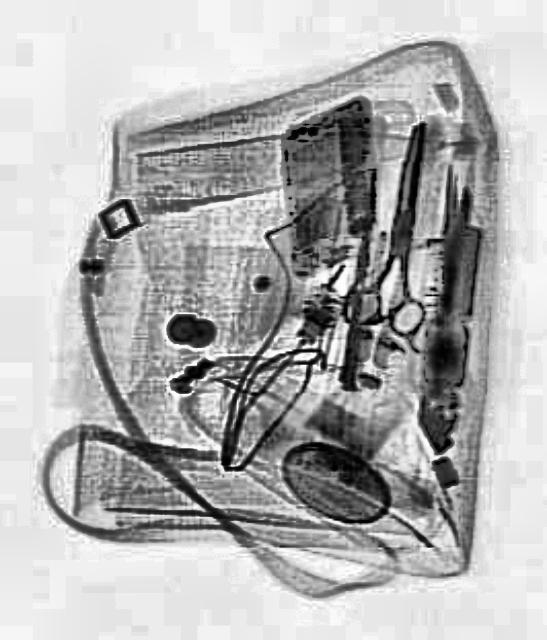Scissors: (334, 110, 462, 344)
